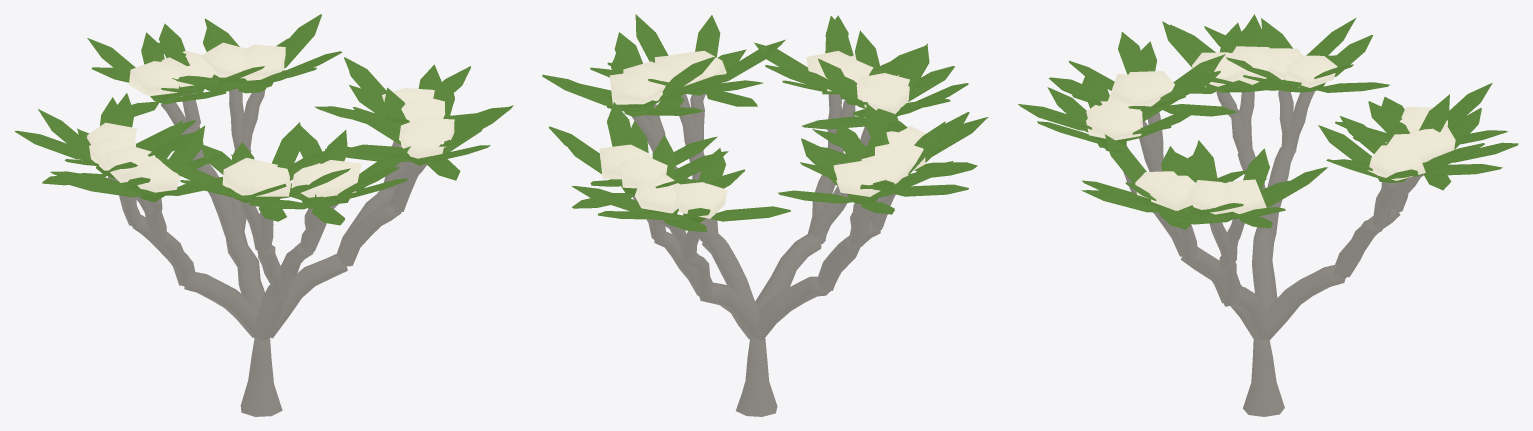
The model's file is Blender_Plumeria_1.glb.
3 renders of one model, left to right at view 1: azimuth 30°, elevation 25°; view 2: azimuth 150°, elevation 25°; view 3: azimuth 270°, elevation 25°, orthographic.
Visible parts, largest first — view 1: Blender_Plumeria_1; view 2: Blender_Plumeria_1; view 3: Blender_Plumeria_1.
Boxes of the visible parts, x1=… form: Blender_Plumeria_1: x1=14, y1=14, x2=513, y2=416; Blender_Plumeria_1: x1=542, y1=14, x2=988, y2=416; Blender_Plumeria_1: x1=1018, y1=14, x2=1518, y2=416.
Size of the model in its own units: 7.61 by 5.34 by 7.76.
